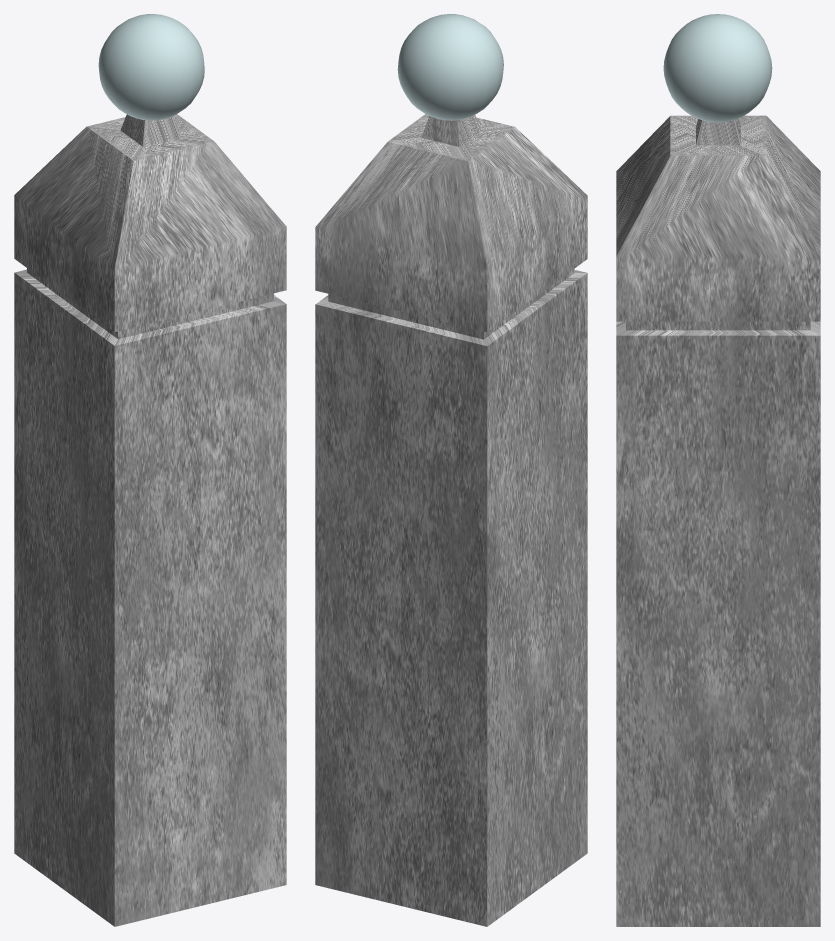
The model's file is fence.fbx.
3 views of the same model, side by side, from view 1: azimuth 30°, elevation 25°; view 2: azimuth 150°, elevation 25°; view 3: azimuth 270°, elevation 25° (orthographic).
Parts seen in each view (by area): view 1: pCube1, pSphere1; view 2: pCube1, pSphere1; view 3: pCube1, pSphere1.
Boxes of the visible parts, x1,y1,x2,y2 form: pCube1: (14,114,286,926); pSphere1: (98,14,204,120); pCube1: (315,114,587,926); pSphere1: (397,14,503,120); pCube1: (616,115,820,926); pSphere1: (663,14,772,122).
Bounding box in the file's own units: 5.99 × 28.31 × 6.06.
2 materials, 1 textured.
